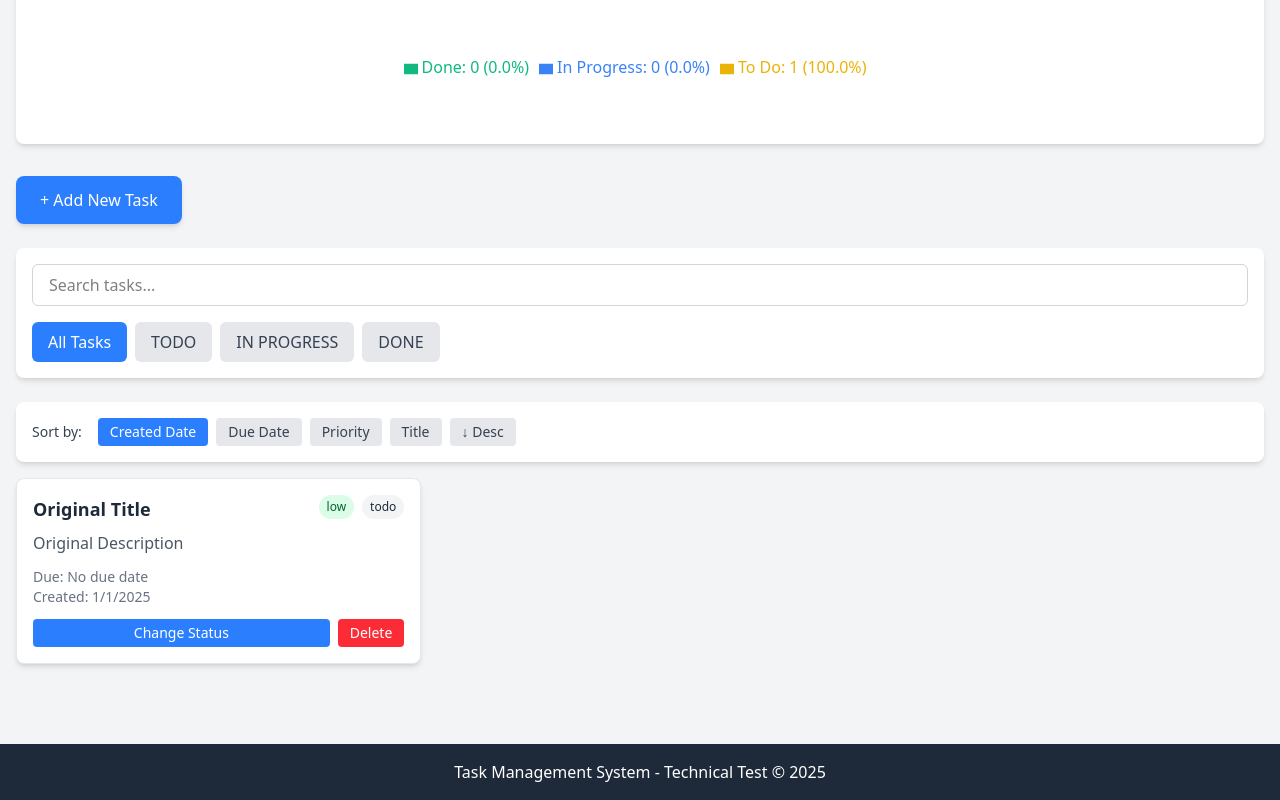
App Integration Tests › Task Update Flow › should update task and persist to localStorage
The width and height of the screenshot is (1280, 800).
(page scrolled)
// Change status
Click the button "Change Status" at (181, 633), box [33,619,330,647]
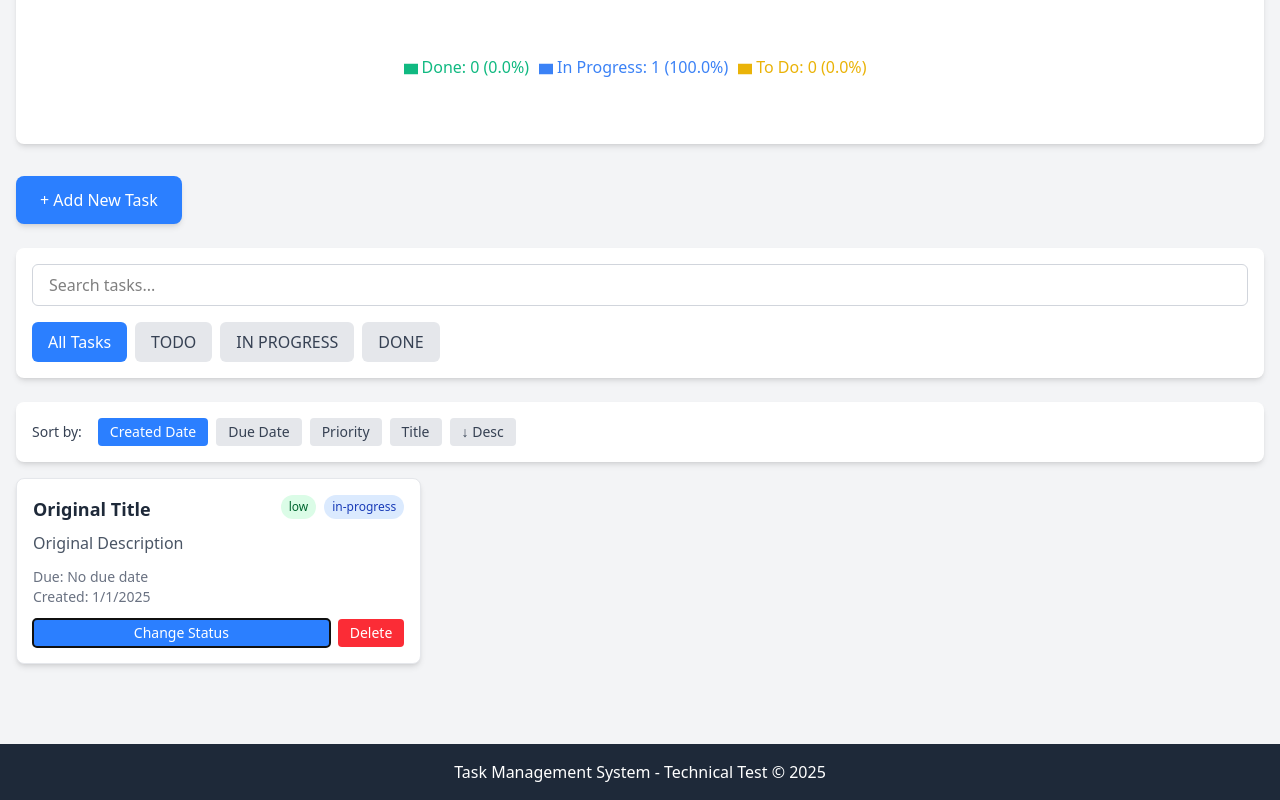
expect the message "in-progress" is shown: met, box [324,495,404,519]
